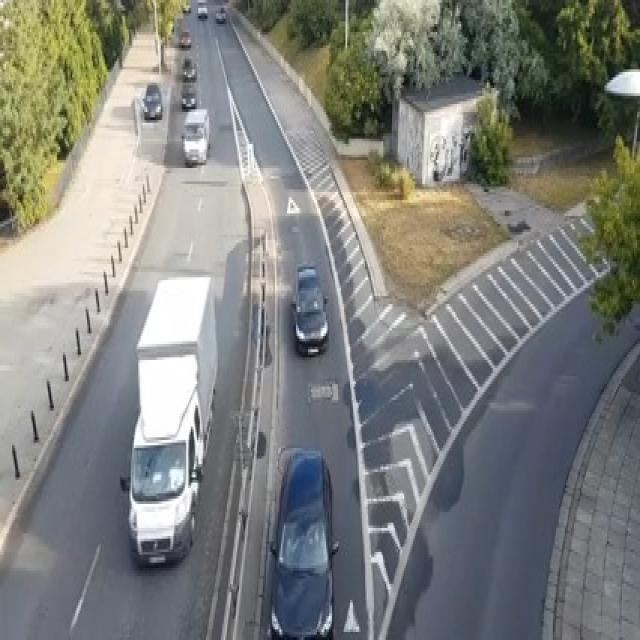bus: (119, 272, 218, 565)
car: (269, 446, 338, 638), (290, 264, 327, 355), (180, 107, 209, 165), (141, 83, 162, 120), (180, 83, 196, 109), (182, 56, 195, 80), (179, 30, 191, 46), (197, 0, 207, 19), (215, 6, 225, 22), (182, 0, 191, 13)
